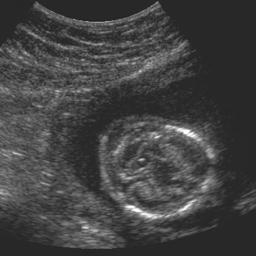abnormal: (96, 113, 218, 224)
